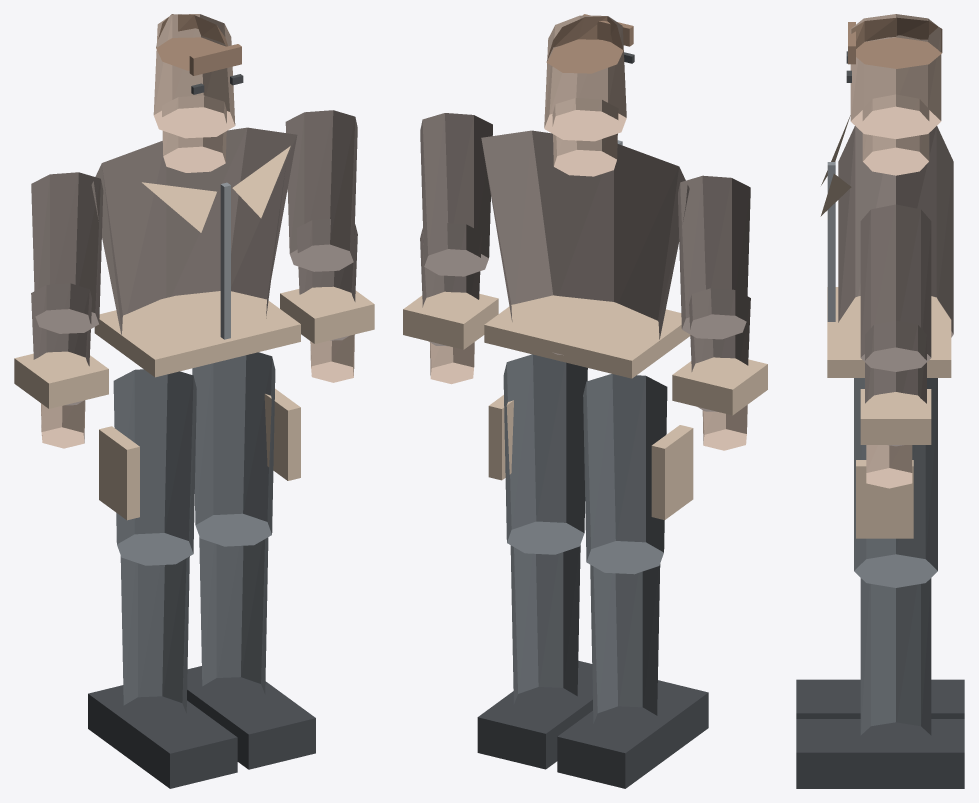
The model's file is mystery_character_dawn.glb.
The picture shows the model from 3 angles, left to right: view 1: azimuth 30°, elevation 25°; view 2: azimuth 150°, elevation 25°; view 3: azimuth 270°, elevation 25°; orthographic projection. The views are drawn at different scales.
Visible parts, largest first — view 1: Jacket, Thigh.R, Thigh.L, Hem, Shoe.L, UpperArm.R, UpperArm.L, Shin.R, Shin.L, Shoe.R, Head, Cuff.L (+12 smaller); view 2: Jacket, Thigh.R, Thigh.L, Hem, UpperArm.R, Shoe.L, UpperArm.L, Shin.R, Shin.L, Shoe.R, Head, Cuff.L (+9 smaller); view 3: Shoe.R, Jacket, Shin.R, UpperArm.R, Thigh.R, Head, Hem, Shoe.L, Hair, Cuff.R, Pocket.R, Forearm.R (+6 smaller).
Boxes of the visible parts, bbox=[...] form: Jacket: bbox=[91, 127, 297, 334]; Thigh.R: bbox=[192, 352, 275, 546]; Thigh.L: bbox=[113, 369, 196, 565]; Hem: bbox=[94, 291, 300, 377]; Shoe.L: bbox=[88, 685, 237, 788]; UpperArm.R: bbox=[285, 110, 357, 271]; UpperArm.L: bbox=[31, 172, 103, 333]; Shin.R: bbox=[199, 537, 268, 694]; Shin.L: bbox=[120, 556, 189, 713]; Shoe.R: bbox=[187, 666, 315, 769]; Head: bbox=[153, 14, 235, 138]; Cuff.L: bbox=[14, 351, 108, 408]; Jacket: bbox=[481, 130, 689, 355]; Thigh.R: bbox=[503, 354, 587, 554]; Thigh.L: bbox=[583, 374, 667, 574]; Hem: bbox=[484, 295, 690, 378]; UpperArm.R: bbox=[420, 113, 492, 276]; Shoe.L: bbox=[557, 680, 708, 788]; UpperArm.L: bbox=[678, 175, 750, 339]; Shin.R: bbox=[510, 545, 580, 704]; Shin.L: bbox=[590, 564, 660, 723]; Shoe.R: bbox=[477, 660, 592, 769]; Head: bbox=[544, 15, 626, 141]; Cuff.L: bbox=[672, 357, 767, 415]; Shoe.R: bbox=[796, 719, 964, 788]; Jacket: bbox=[838, 126, 953, 337]; Shin.R: bbox=[860, 578, 931, 735]; UpperArm.R: bbox=[860, 204, 931, 371]; Thigh.R: bbox=[854, 395, 937, 587]; Head: bbox=[850, 14, 941, 138]; Hem: bbox=[827, 287, 951, 377]; Shoe.L: bbox=[796, 679, 964, 718]; Hair: bbox=[851, 17, 942, 68]; Cuff.R: bbox=[860, 389, 931, 444]; Pocket.R: bbox=[856, 460, 913, 538]; Forearm.R: bbox=[865, 320, 926, 446].
Size of the model in its own units: 0.87 by 1.8 by 0.38.
